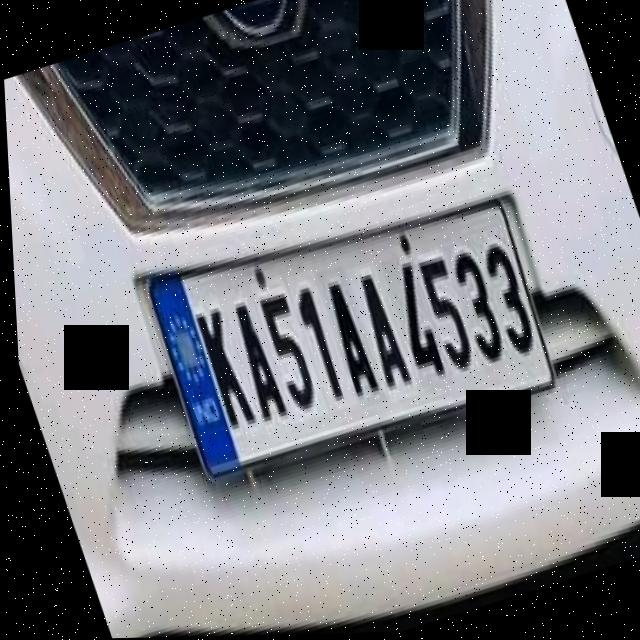1: (283, 270, 355, 415)
3: (440, 239, 511, 377), (473, 236, 541, 368)
4: (377, 254, 449, 395)
5: (245, 275, 324, 425), (408, 246, 477, 379)
A: (217, 288, 292, 438), (343, 261, 416, 405), (313, 266, 384, 411)
K: (183, 293, 258, 442)
